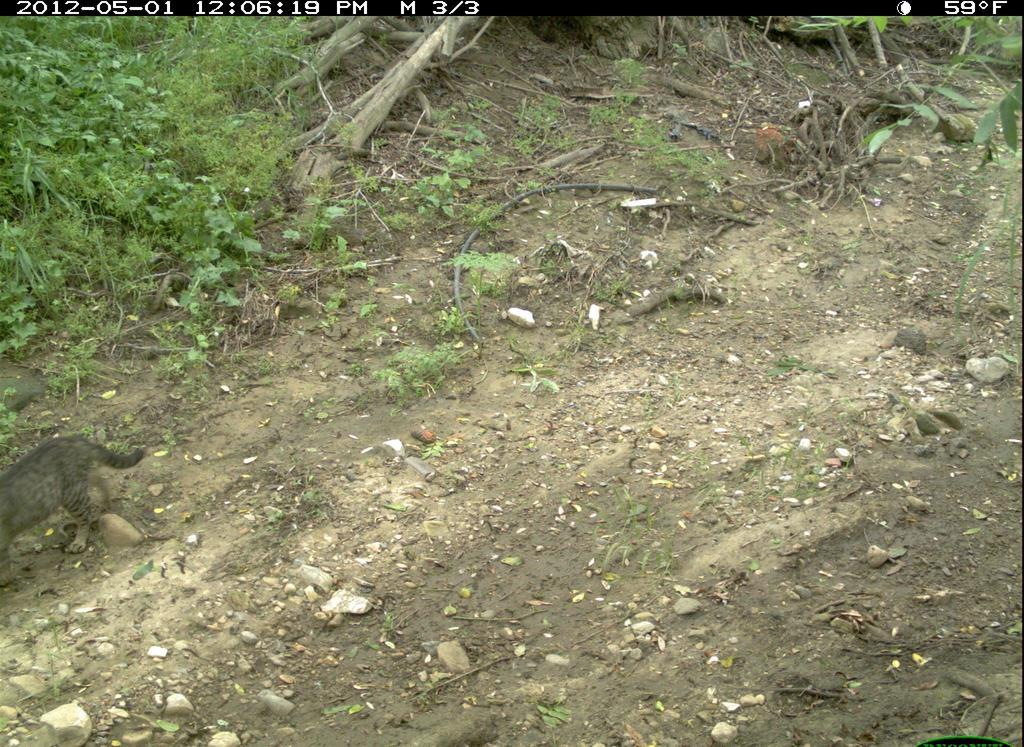cat: (1, 424, 158, 600)
